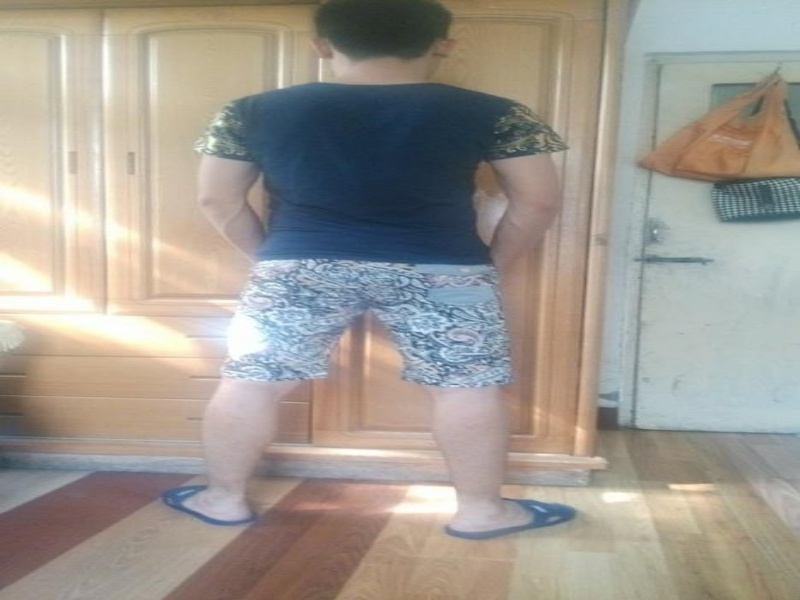short_sleeved_shirt: (197, 82, 576, 268)
shorts: (215, 237, 515, 391)
